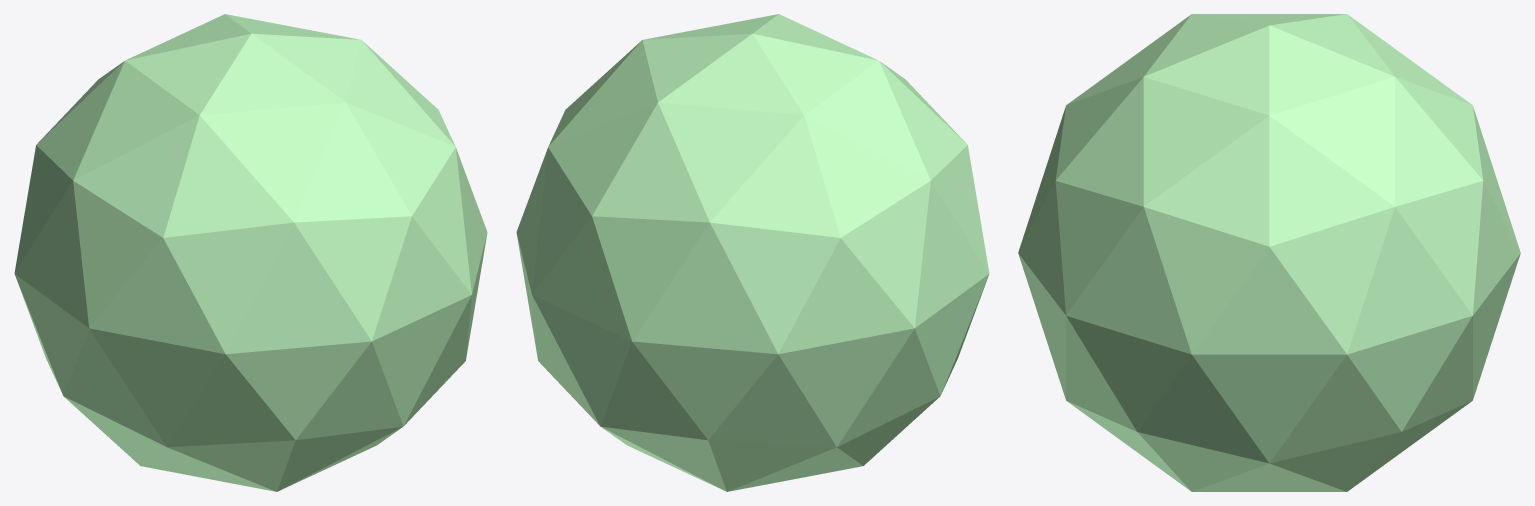
The model's file is playerIn.gltf.
3 views of the same model, side by side, from view 1: azimuth 30°, elevation 25°; view 2: azimuth 150°, elevation 25°; view 3: azimuth 270°, elevation 25° (orthographic). The views are drawn at different scales.
Visible parts, largest first — view 1: 玩家内部角球v2; view 2: 玩家内部角球v2; view 3: 玩家内部角球v2.
Part boxes in pixels (left/top/right/bottom): 玩家内部角球v2: left=14, top=14, right=487, bottom=491; 玩家内部角球v2: left=516, top=14, right=989, bottom=491; 玩家内部角球v2: left=1018, top=14, right=1520, bottom=491.
Size of the model in its own units: 1.43 by 1.5 by 1.5.
